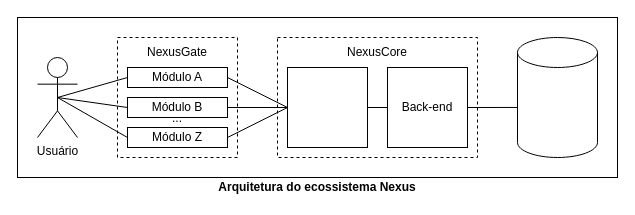
This 635x215 diagram has some shape labels left out. The centre of each missing label's shape, as x and y in pixels:
"API" goes at (327,107).
"Banco de dados" goes at (557,97).
